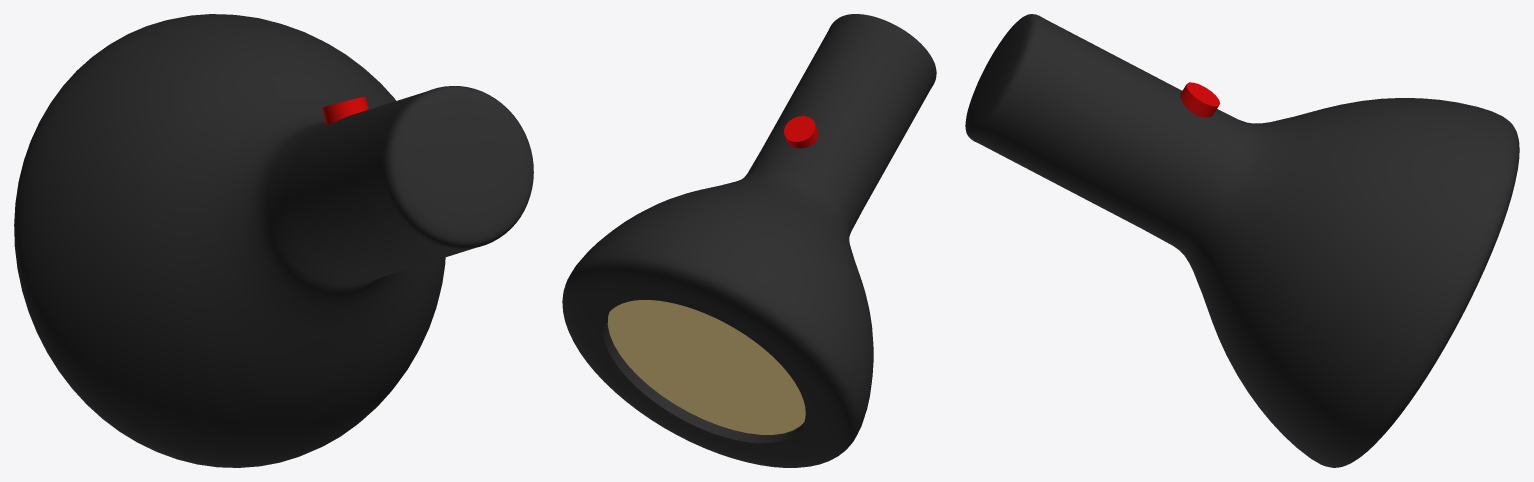
The model's file is flashlight.fbx.
3 views of the same model, side by side, from view 1: azimuth 30°, elevation 25°; view 2: azimuth 150°, elevation 25°; view 3: azimuth 270°, elevation 25° (orthographic). The views are drawn at different scales.
Parts seen in each view (by area): view 1: flashlight, red button_2; view 2: flashlight, leds, red button_2; view 3: flashlight, red button_2.
Part boxes in pixels (<box>): flashlight: <box>14,14,533,467</box>; red button_2: <box>322,96,368,124</box>; flashlight: <box>562,14,936,467</box>; leds: <box>607,300,805,434</box>; red button_2: <box>784,116,818,148</box>; flashlight: <box>965,14,1519,467</box>; red button_2: <box>1180,82,1220,117</box>.
Size of the model in its own units: 1.09 by 1.31 by 1.54.
